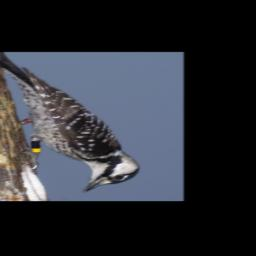Woodpecker: (0, 53, 142, 194)
